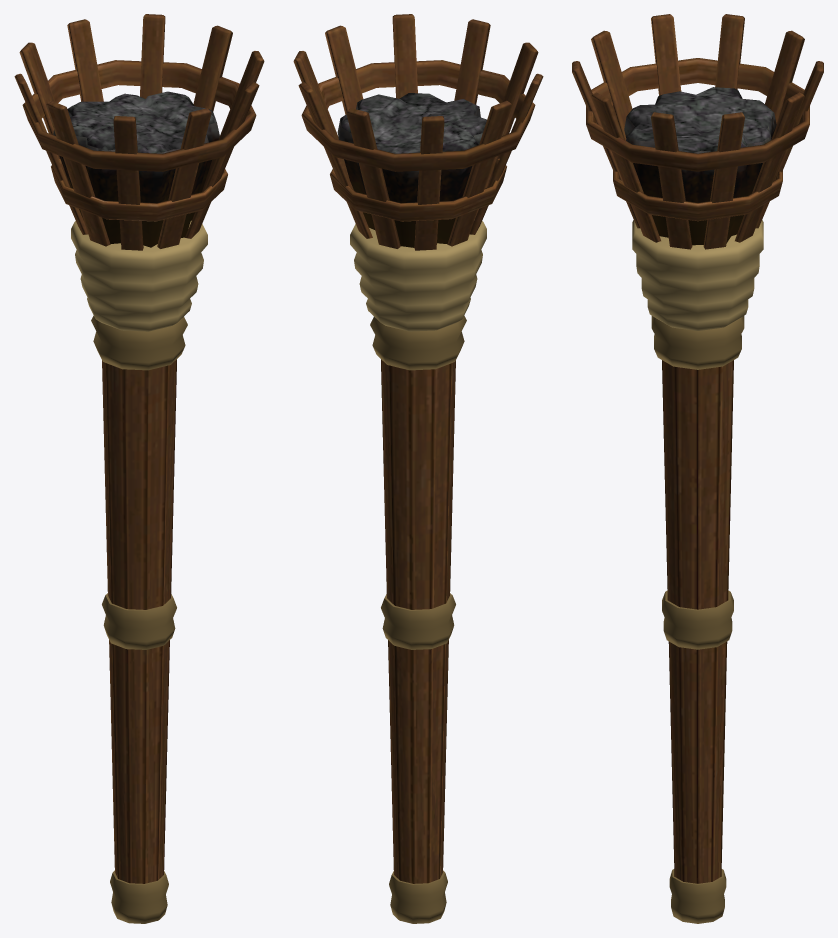
File: FtrTorch.glb
The picture shows the model from 3 angles, left to right: view 1: azimuth 30°, elevation 25°; view 2: azimuth 150°, elevation 25°; view 3: azimuth 270°, elevation 25°; orthographic projection.
Parts seen in each view (by area): view 1: FireWoodLow__mBody; view 2: FireWoodLow__mBody; view 3: FireWoodLow__mBody.
Boxes of the visible parts, x1,y1,x2,y2 form: FireWoodLow__mBody: (14,14,264,923); FireWoodLow__mBody: (293,14,543,923); FireWoodLow__mBody: (572,14,823,923).
Bounding box in the file's own units: 3.76 × 14.22 × 3.83.
1 material, 1 textured.
